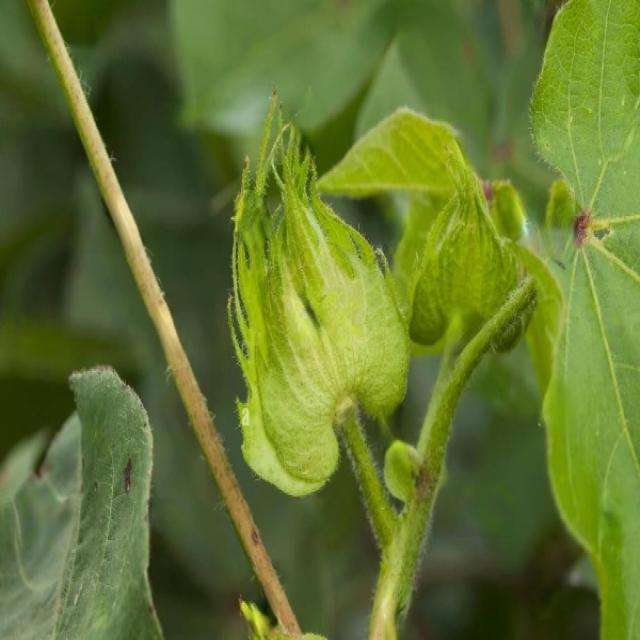Cotton Bud: (226, 110, 419, 483), (408, 159, 536, 343)
